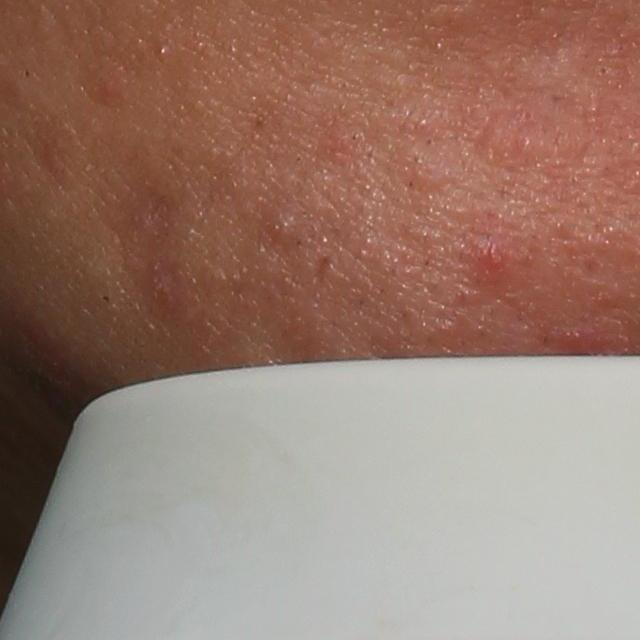papule: (394, 144, 443, 192), (470, 229, 511, 273)
